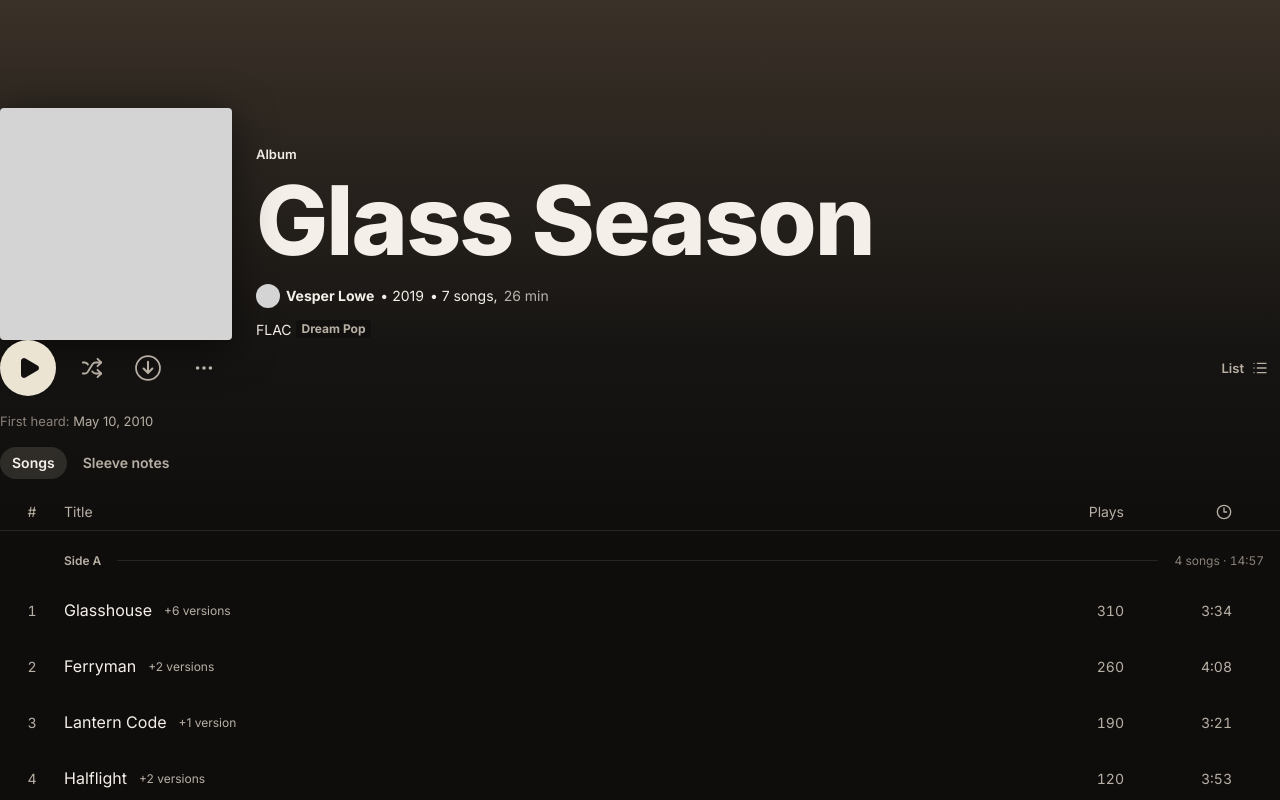
Other versions › released songs show +N versions, which opens the panel
Click the button with aria-label "+6 versions of Glasshouse": (197, 611) [160,602,235,620]
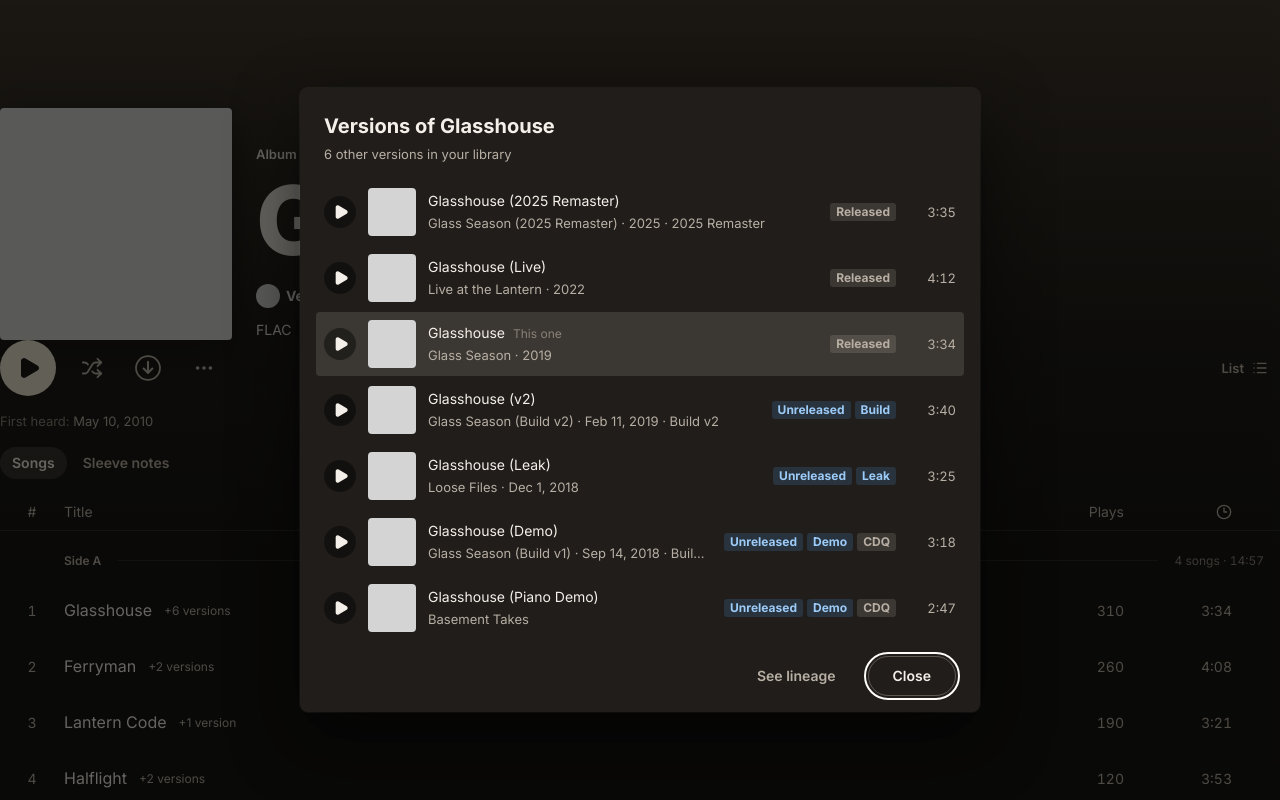
Check: the text "6 other versions in your library" is shown, box [324,146,512,162]
Check: the text "Glasshouse (2025 Remaster)" is shown, box [428,191,620,212]
Check: the text "Glasshouse (Live)" is shown, box [428,257,546,278]
